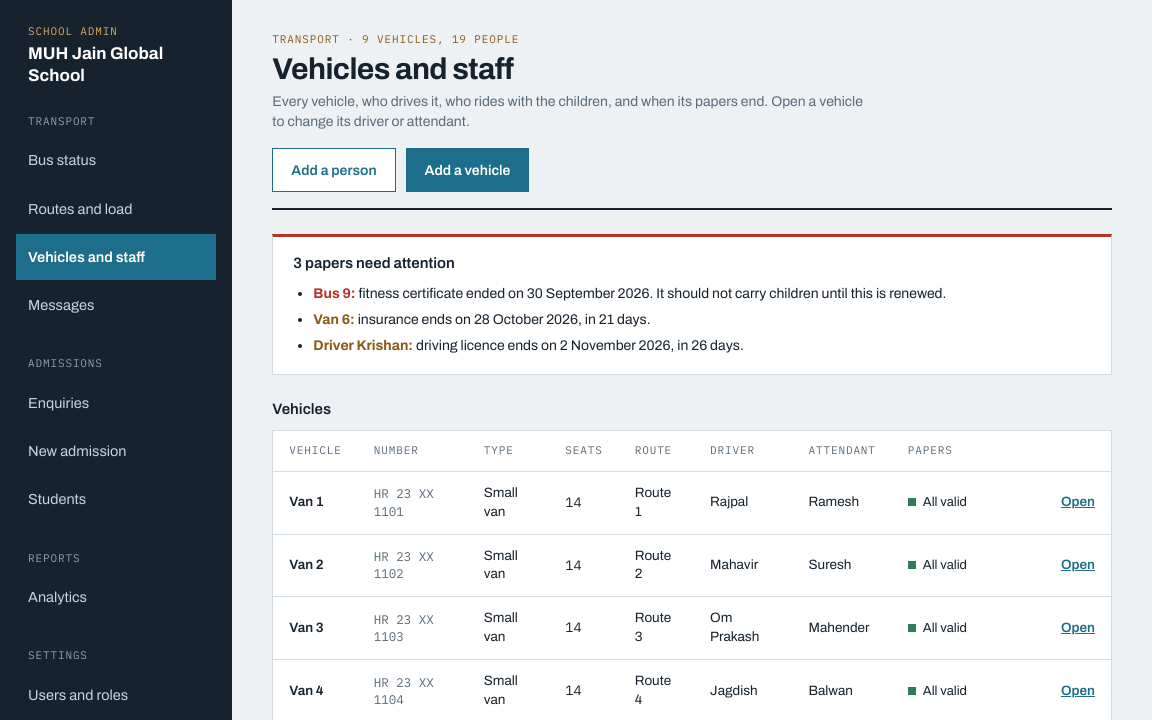
Test case: Add and edit a person › asks for the licence only for a driver
Click the button "Add a person": (334, 170) [272,148,396,192]
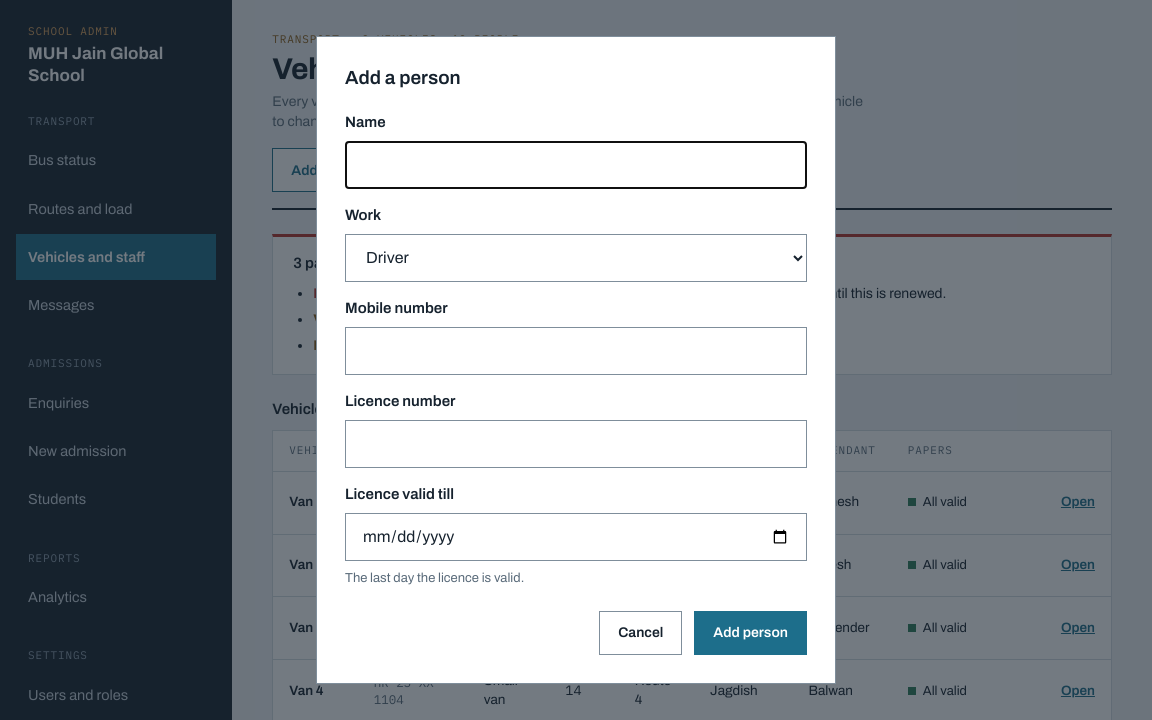
Result: the field labelled "Licence number" is shown at [345,420,807,468]
Select "Attendant" in the dropdown labelled "Work": (576, 258) [345,234,807,282]
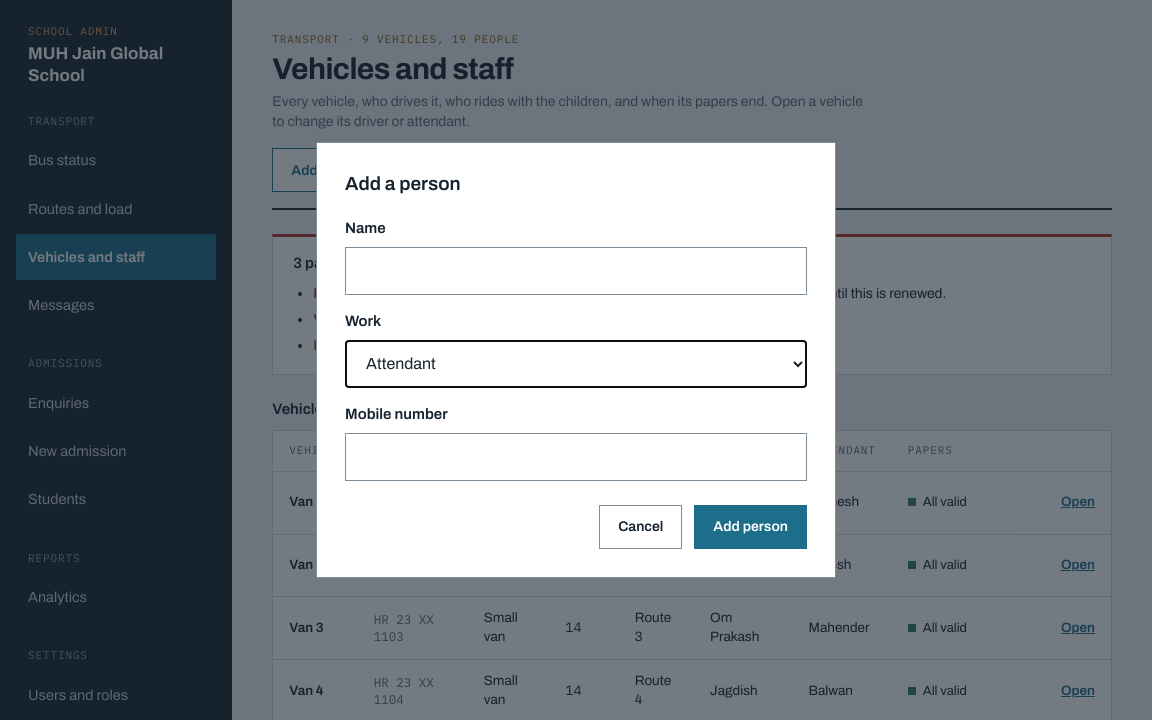
Expected: the field labelled "Licence number" is not shown
Click the button "Add person": (751, 527) [694,505,807,549]
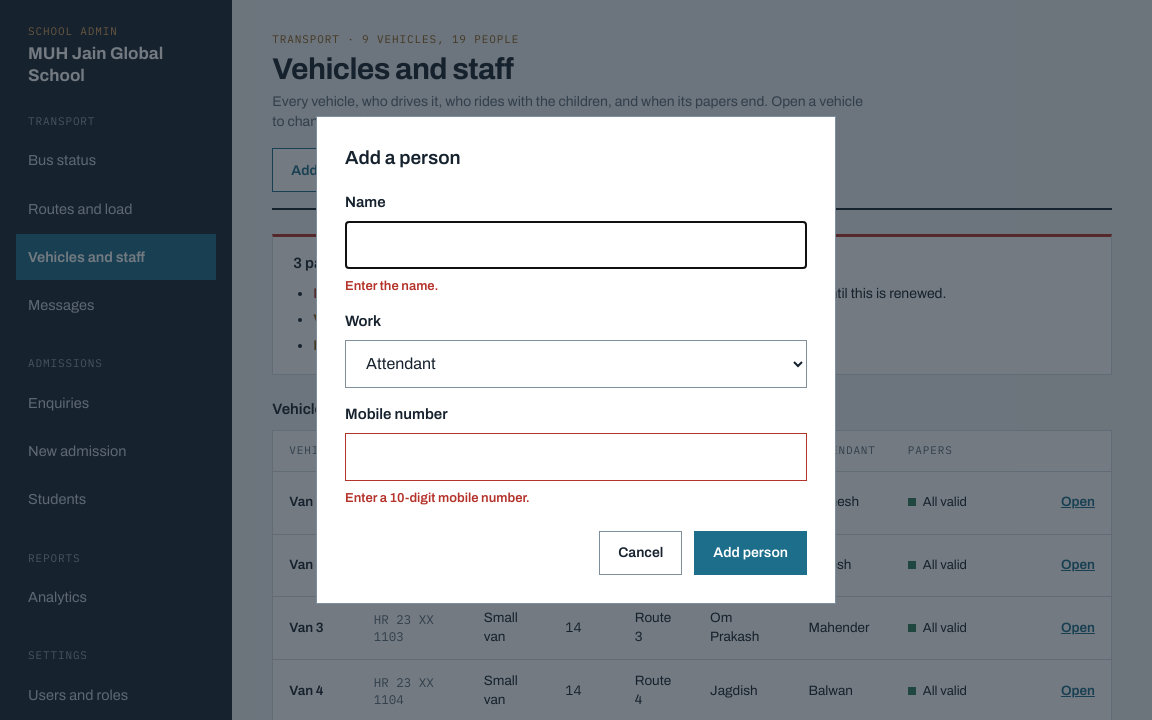
Result: the text "Enter the name." is shown at [345,279,438,293]
